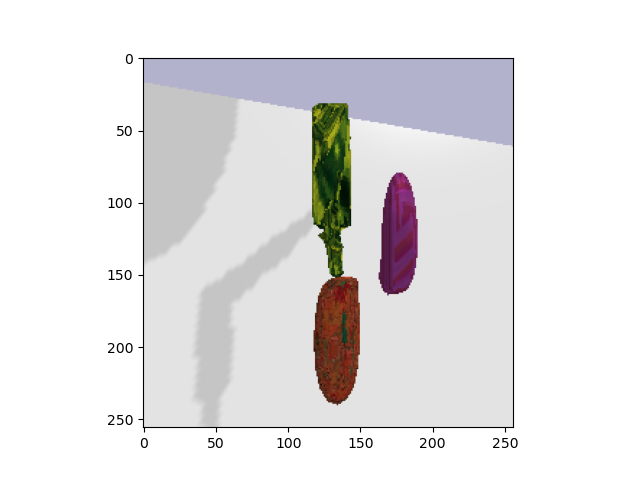v249b387_105: (372, 170, 431, 299)
v249b387_106: (308, 275, 369, 407)
v249b387_108: (298, 97, 366, 275)
